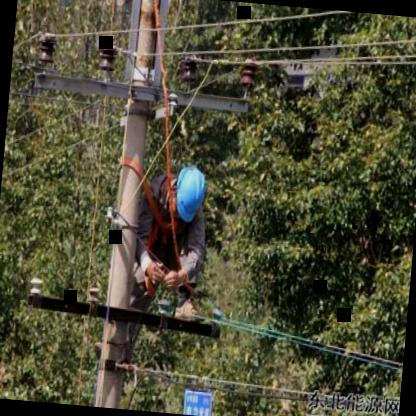helmet: (168, 162, 209, 234)
